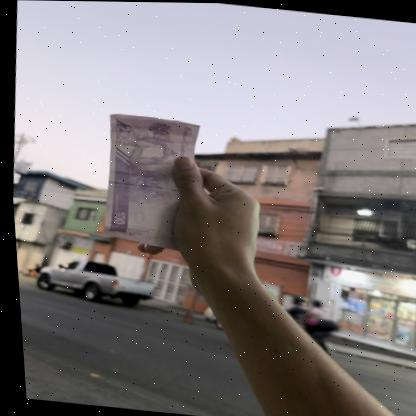one_hundred-back-vef: (91, 110, 207, 252)
